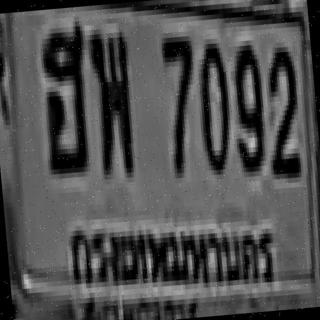A30: (87, 27, 136, 175)
A44: (36, 21, 92, 170)
N00: (193, 38, 232, 171)
N02: (260, 42, 301, 175)
N07: (158, 31, 200, 174)
N09: (226, 42, 266, 170)
P04: (57, 193, 284, 313)
